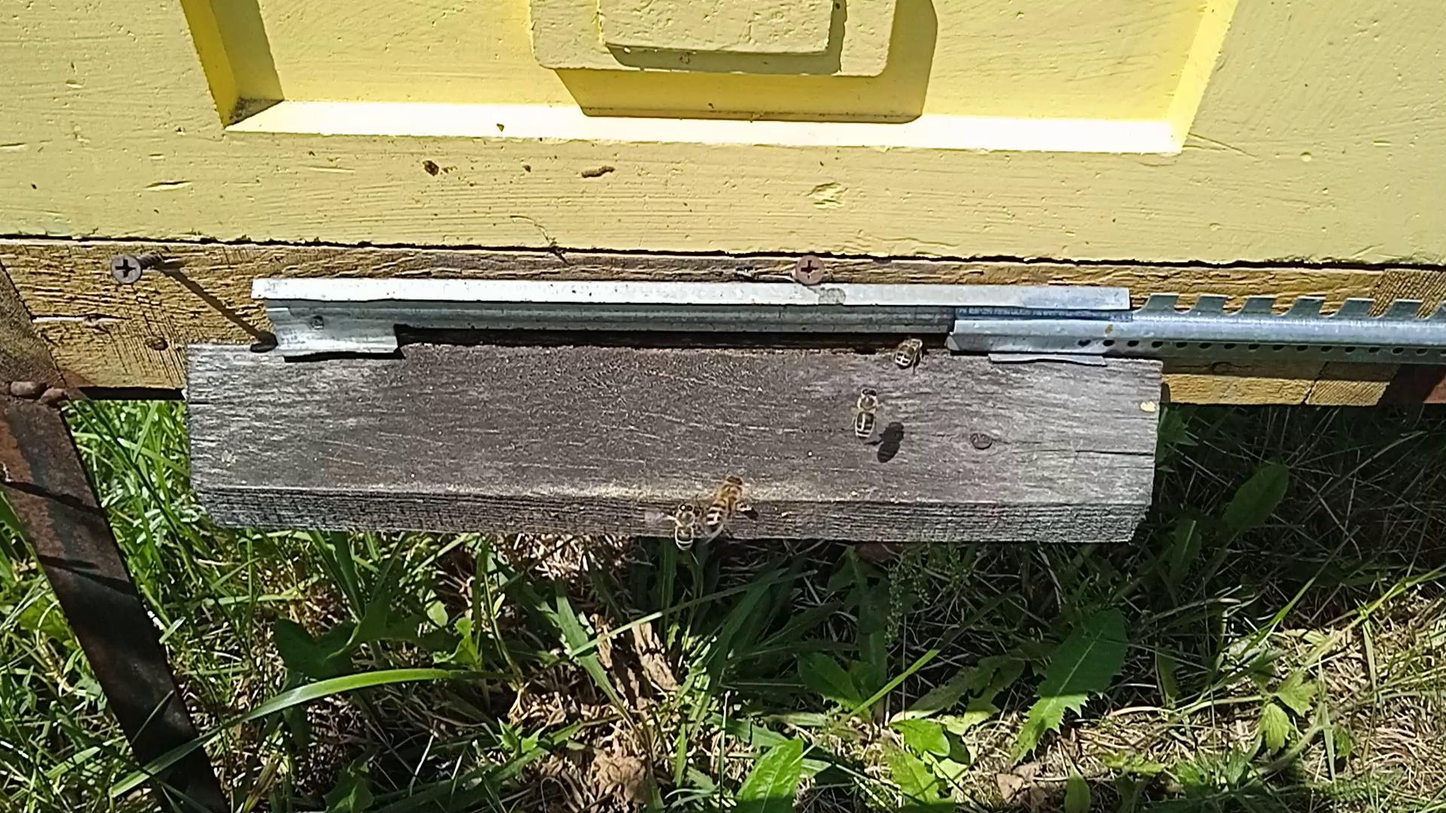worker-bee: (706, 473, 746, 530), (853, 386, 883, 440), (670, 501, 698, 552), (893, 334, 926, 370)
